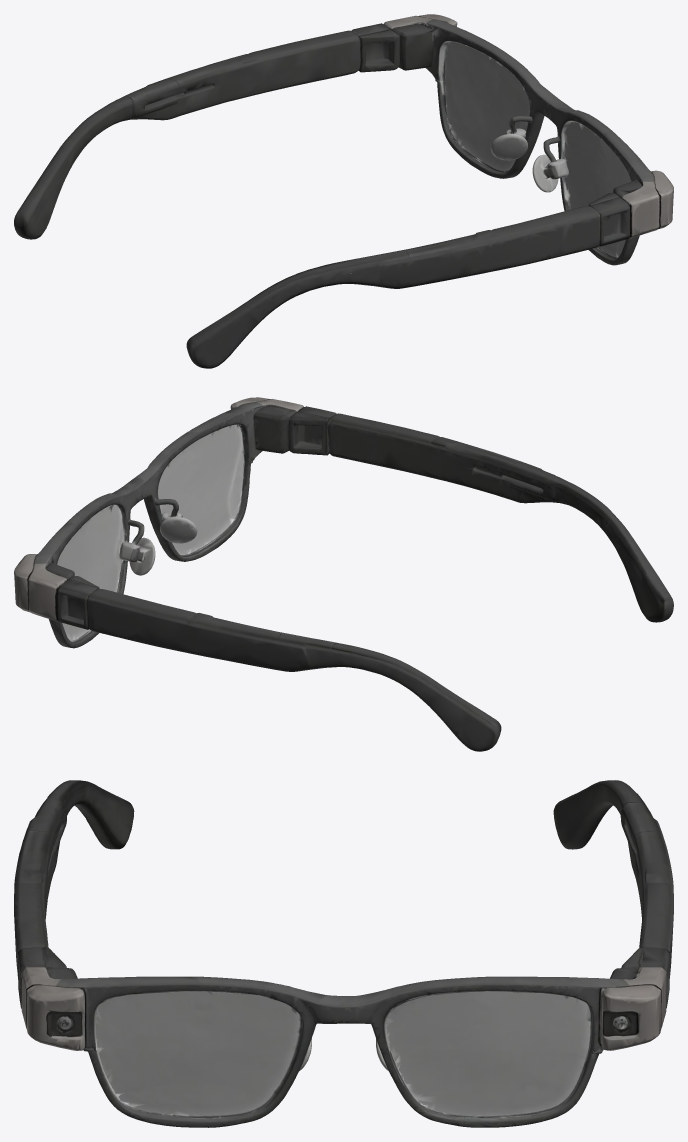
Rendered from ar-eyewear-tripo-v1.glb.
3 renders of one model, top to bottom at view 1: azimuth 30°, elevation 25°; view 2: azimuth 150°, elevation 25°; view 3: azimuth 270°, elevation 25°, orthographic. The views are drawn at different scales.
Visible parts, largest first — view 1: tripo_node_d3e37b25-d15f-4ba9-803c-42ef6254170c; view 2: tripo_node_d3e37b25-d15f-4ba9-803c-42ef6254170c; view 3: tripo_node_d3e37b25-d15f-4ba9-803c-42ef6254170c.
Boxes of the visible parts, bbox=[...] form: tripo_node_d3e37b25-d15f-4ba9-803c-42ef6254170c: bbox=[14, 14, 673, 368]; tripo_node_d3e37b25-d15f-4ba9-803c-42ef6254170c: bbox=[14, 397, 673, 751]; tripo_node_d3e37b25-d15f-4ba9-803c-42ef6254170c: bbox=[14, 780, 673, 1127].
Size of the model in its own units: 0.9794 by 0.2392 by 0.9367.
1 material, 1 textured.
